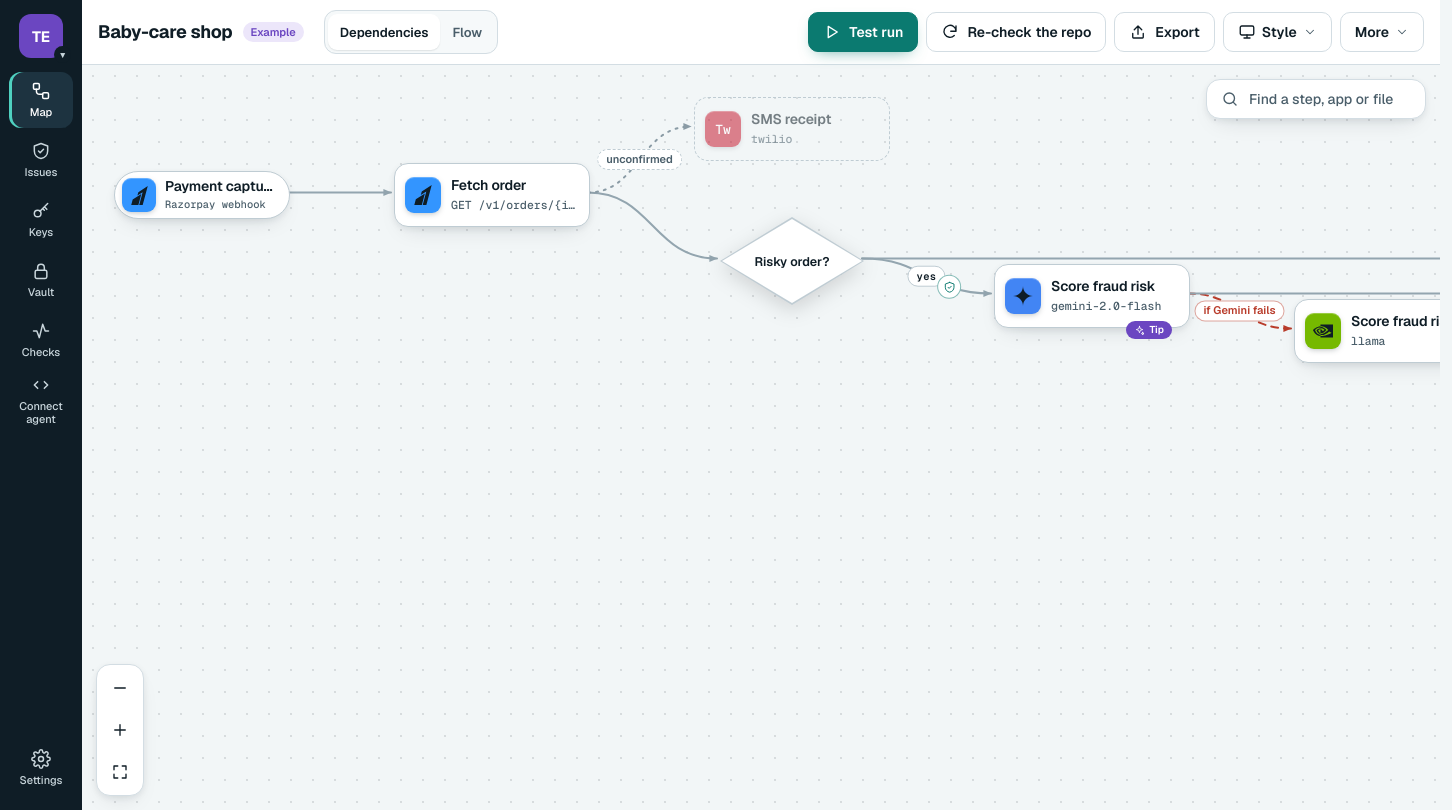
Test: Test run starts the replay
Expected: the text "Fetch order" is shown, [451,176,526,194]
What coordinates should you click on to do the following:
click the button "Test run"
I would click on:
 (863, 32)
Its box is [808,12,918,52].
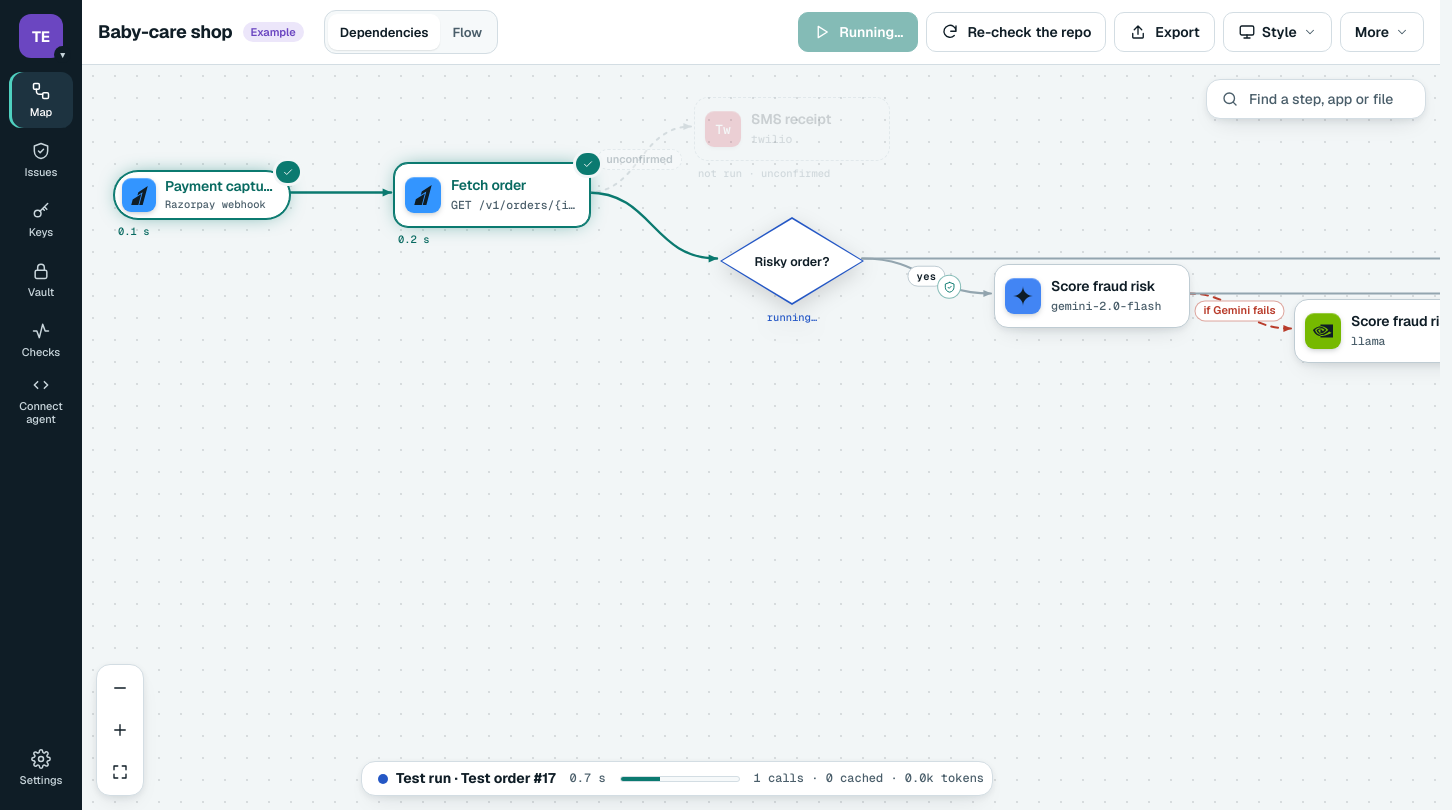
Now the text "Test run · Test order #17" is shown, box [378,770,556,787]
